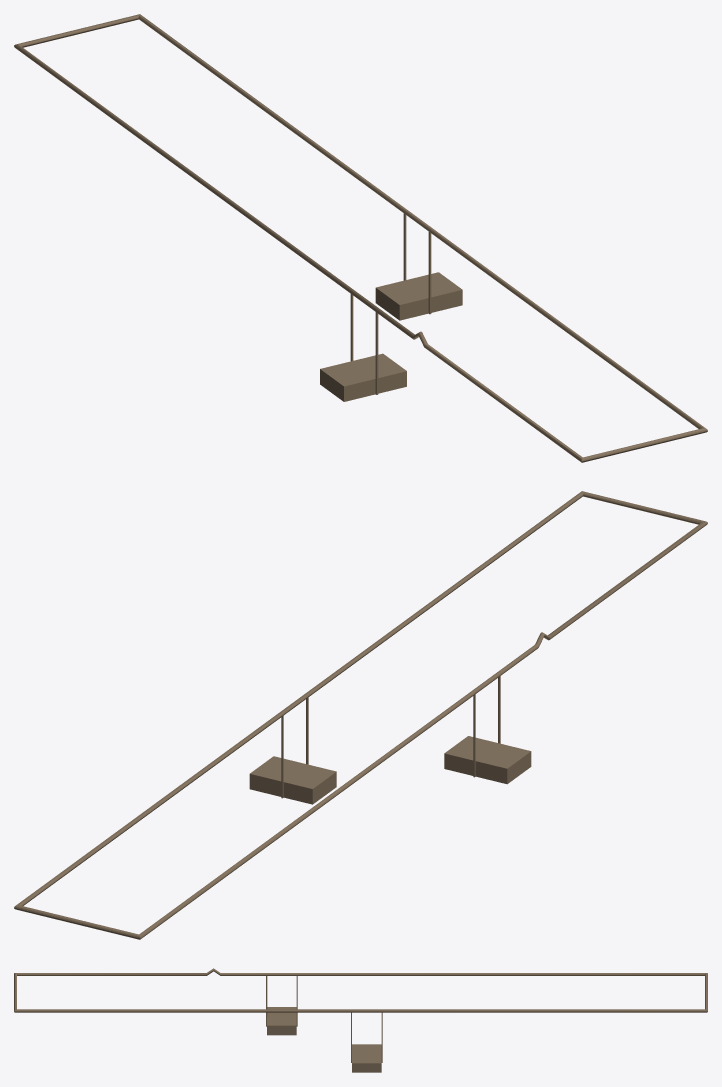
Rendered from supply.fbx.
3 renders of one model, top to bottom at view 1: azimuth 30°, elevation 25°; view 2: azimuth 150°, elevation 25°; view 3: azimuth 270°, elevation 25°, orthographic. The views are drawn at different scales.
Visible parts, largest first — view 1: Line001, Object038, Object036; view 2: Line001, Object036, Object038; view 3: Line001, Object038, Object036.
Part boxes in pixels (left/top/right/bottom): Line001: left=14, top=14, right=707, bottom=462; Object038: left=375, top=272, right=462, bottom=320; Object036: left=320, top=353, right=406, bottom=401; Line001: left=14, top=491, right=707, bottom=939; Object036: left=444, top=736, right=531, bottom=784; Object038: left=249, top=756, right=336, bottom=804; Line001: left=14, top=968, right=707, bottom=1012; Object038: left=352, top=1044, right=381, bottom=1072; Object036: left=267, top=1007, right=296, bottom=1035.
Bounding box in the file's own units: 6.48 × 3.11 × 33.86.
